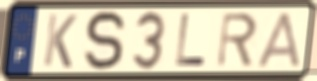3: (130, 9, 167, 73)
A: (255, 11, 302, 70)
K: (41, 12, 80, 70)
L: (173, 12, 208, 68)
R: (215, 11, 259, 70)
S: (83, 9, 128, 74)
